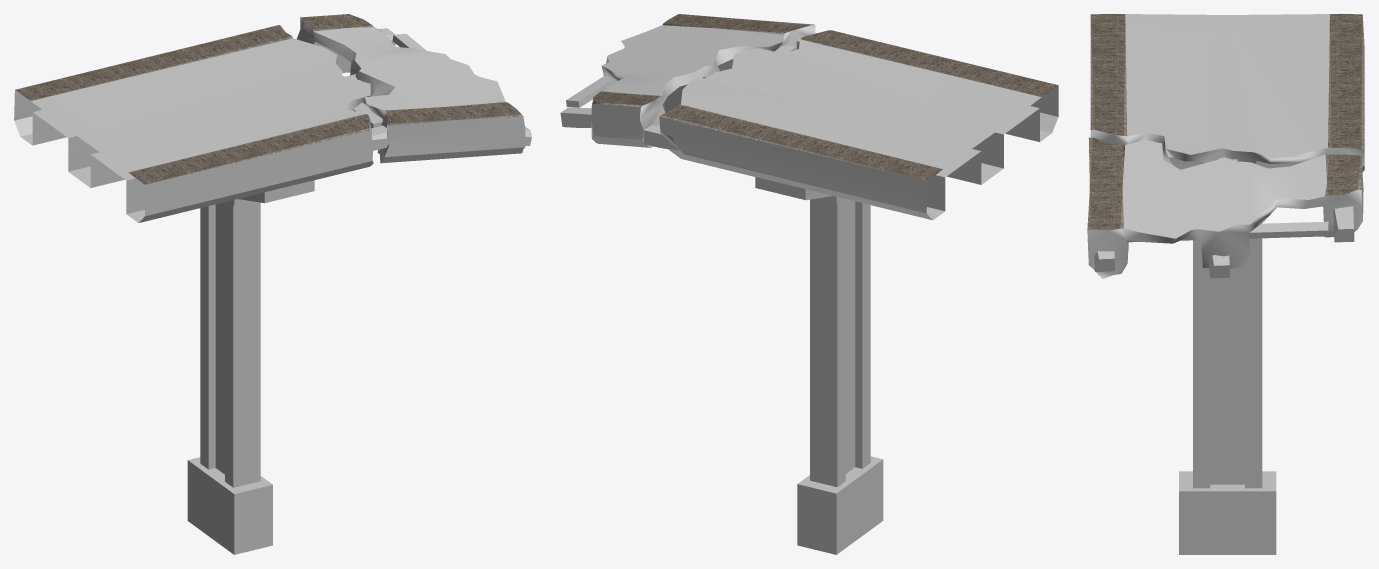
File: overpass4A_LOD1.fbx
3 views of the same model, side by side, from view 1: azimuth 30°, elevation 25°; view 2: azimuth 150°, elevation 25°; view 3: azimuth 270°, elevation 25° (orthographic). The views are drawn at different scales.
Parts seen in each view (by area): view 1: polySurface861; view 2: polySurface861; view 3: polySurface861.
Boxes of the visible parts, left/top/right/bottom form: polySurface861: left=14, top=14, right=531, bottom=554; polySurface861: left=560, top=14, right=1058, bottom=554; polySurface861: left=1087, top=14, right=1364, bottom=554.
Size of the model in its own units: 26.05 by 27.66 by 15.18.
